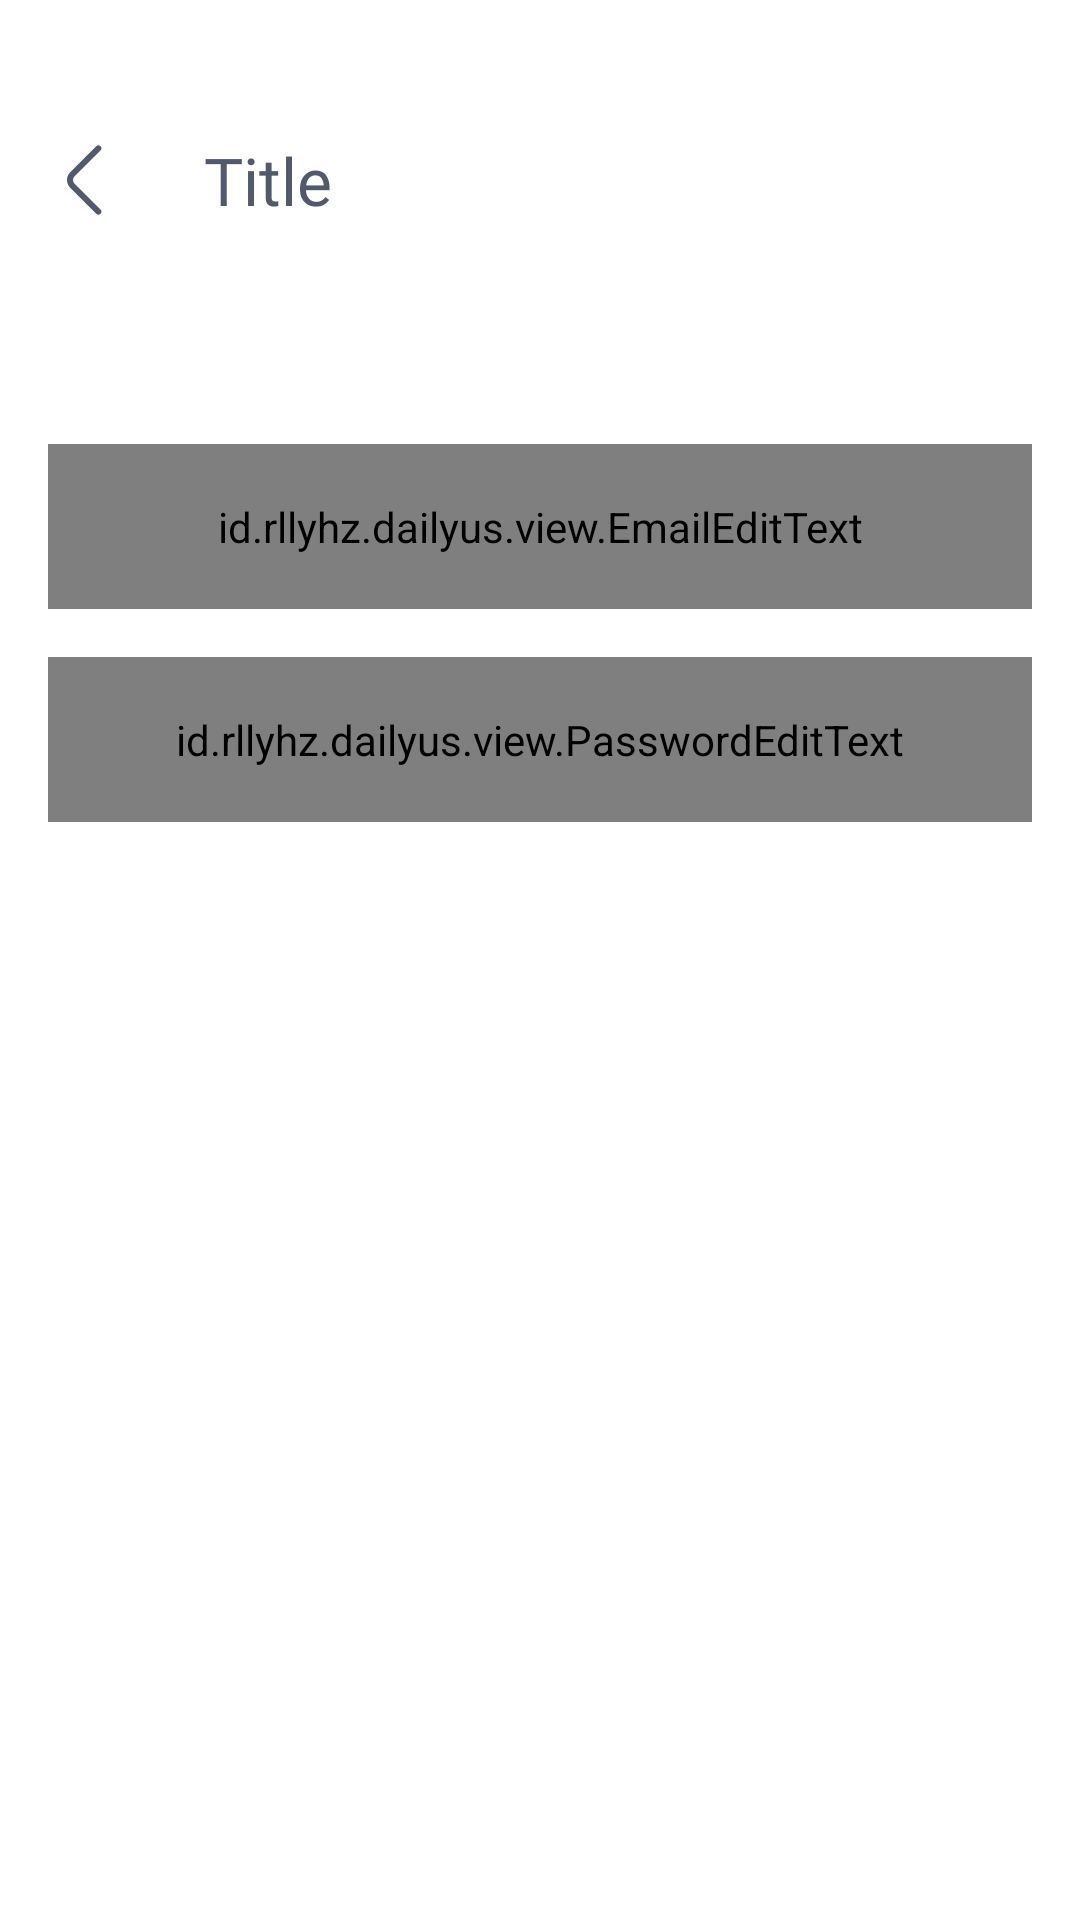

Icon click points for this 1080 x 1920 phone screenshot, format (x,y):
Back icon: (84,180)
